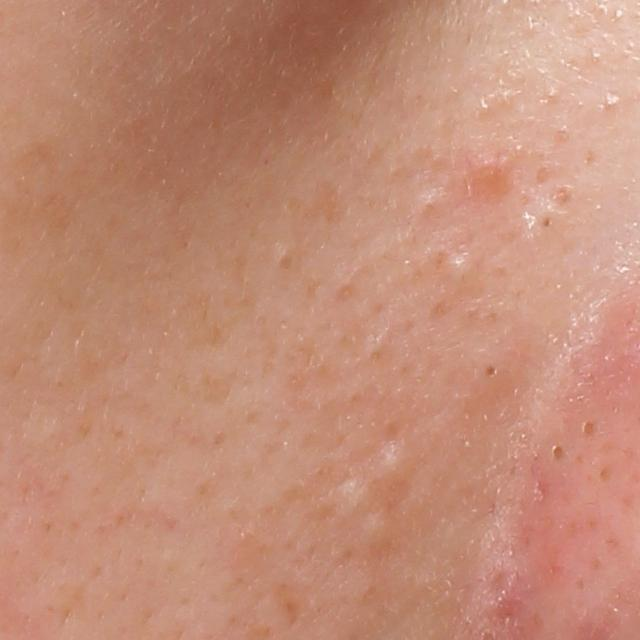comedo: (401, 180, 456, 235), (444, 246, 481, 292), (372, 438, 409, 484), (474, 361, 510, 389), (545, 436, 572, 467), (575, 416, 602, 443), (600, 86, 624, 115), (543, 81, 567, 105), (537, 213, 558, 234)
